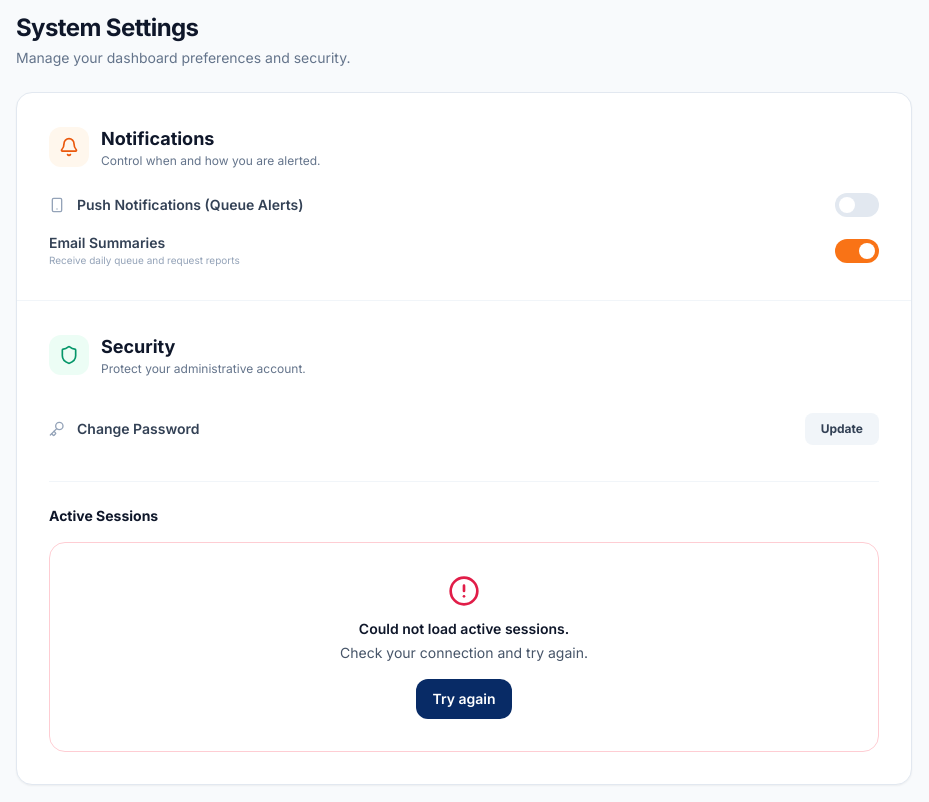
it: Settings load recovery › recovers the session list without refetching preferences
This screenshot has width=929, height=802.
expect the message shows "Could not load active sessions.": met, box [359,620,569,637]
Click the button "Try again" at (464, 699), box [416,679,512,719]
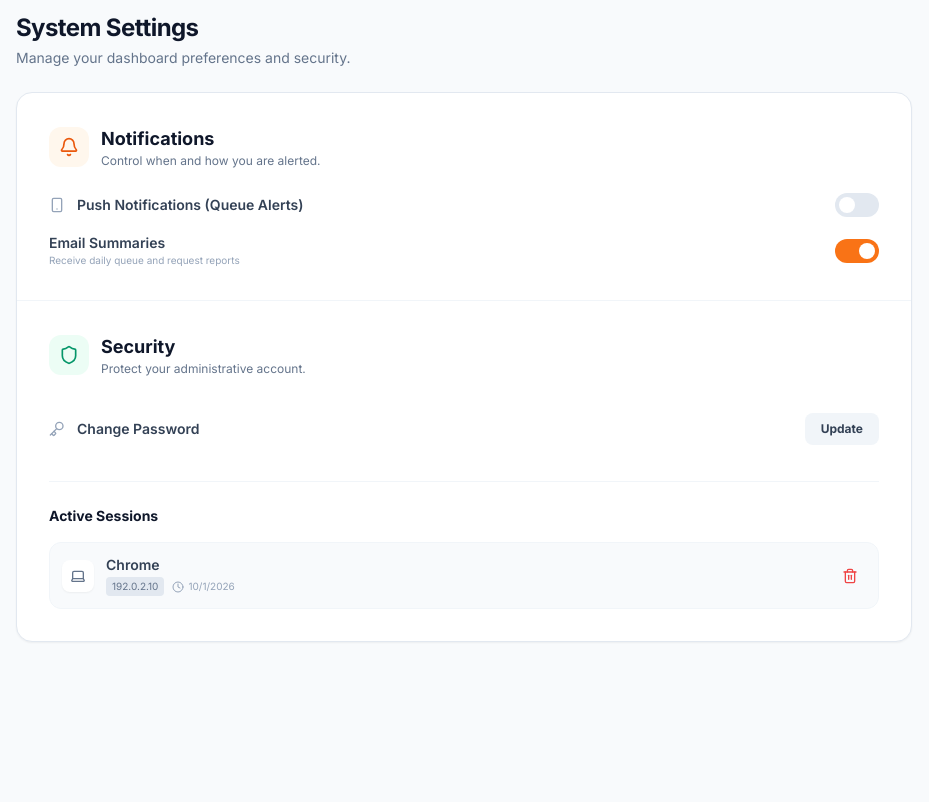
expect the text "Email Summaries" is shown: met, box [49,234,165,251]
expect the text "Chrome" is shown: met, box [106,556,160,573]
